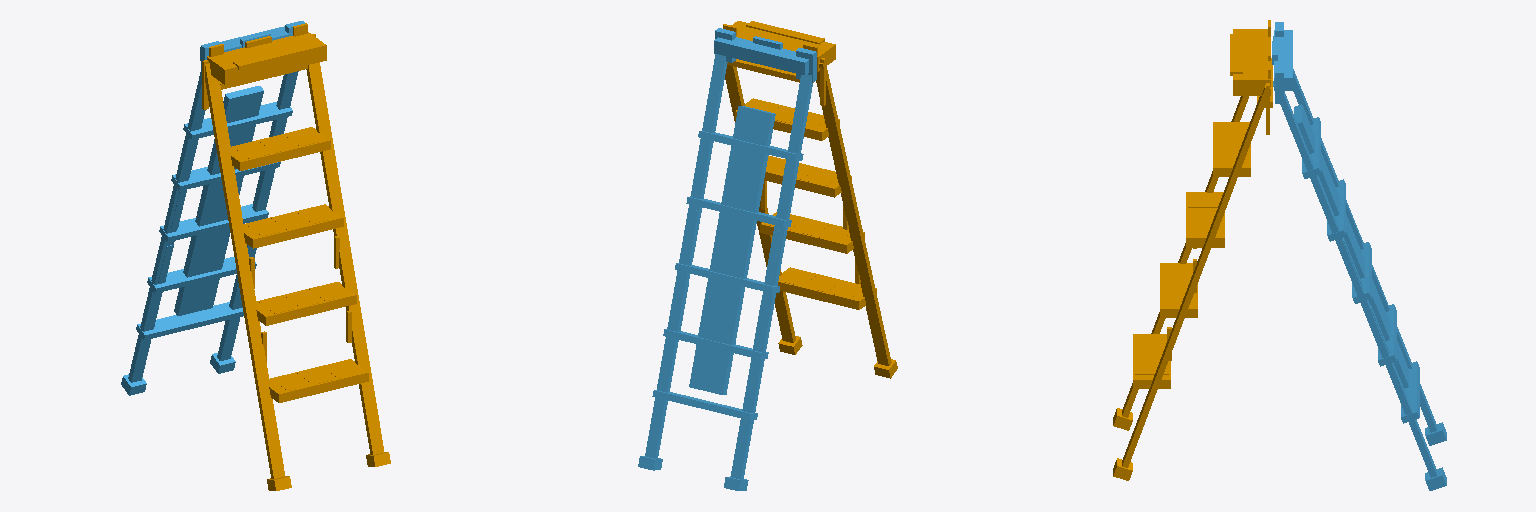
The robot description file, URDF, robot "a_frame_step_ladder":
<robot name="a_frame_step_ladder">
  <link name="front_frame">
    <inertial>
      <origin xyz="0 -0.235 -0.76" rpy="0 0 0" />
      <mass value="6.5" />
      <inertia ixx="1.36868" ixy="0" ixz="0" iyy="1.30108" iyz="0" izz="0.296833" />
      </inertial>
    <visual>
      <origin xyz="-0.195 -0.249792 -0.738071" rpy="-0.33 0 0" />
      <geometry>
        <box size="0.045 0.02 1.48" />
        </geometry>
      </visual>
    <visual>
      <origin xyz="0.195 -0.249792 -0.738071" rpy="-0.33 0 0" />
      <geometry>
        <box size="0.045 0.02 1.48" />
        </geometry>
      </visual>
    <visual>
      <origin xyz="0 -0.062 -0.046" rpy="0 0 0" />
      <geometry>
        <box size="0.4 0.124 0.058" />
        </geometry>
      </visual>
    <visual>
      <origin xyz="0 -0.114 -0.018" rpy="0 0 0" />
      <geometry>
        <box size="0.3 0.042 0.014" />
        </geometry>
      </visual>
    <visual>
      <origin xyz="0 -0.02 -0.12" rpy="0 0 0" />
      <geometry>
        <box size="0.34 0.052 0.022" />
        </geometry>
      </visual>
    <visual>
      <origin xyz="0 -0.006 -0.012" rpy="0 0 0" />
      <geometry>
        <box size="0.1 0.012 0.03" />
        </geometry>
      </visual>
    <visual>
      <origin xyz="-0.165 -0.006 -0.024" rpy="0 0 0" />
      <geometry>
        <box size="0.054 0.012 0.082" />
        </geometry>
      </visual>
    <visual>
      <origin xyz="0.165 -0.006 -0.024" rpy="0 0 0" />
      <geometry>
        <box size="0.054 0.012 0.082" />
        </geometry>
      </visual>
    <visual>
      <origin xyz="-0.212 -0.012 -0.116" rpy="0 0 0" />
      <geometry>
        <box size="0.018 0.012 0.18" />
        </geometry>
      </visual>
    <visual>
      <origin xyz="0.212 -0.012 -0.116" rpy="0 0 0" />
      <geometry>
        <box size="0.018 0.012 0.18" />
        </geometry>
      </visual>
    <visual>
      <origin xyz="0 -0.128175 -0.359654" rpy="0 0 0" />
      <geometry>
        <box size="0.356 0.126 0.034" />
        </geometry>
      </visual>
    <visual>
      <origin xyz="-0.1 -0.128175 -0.344654" rpy="0 0 0" />
      <geometry>
        <box size="0.078 0.112 0.005" />
        </geometry>
      </visual>
    <visual>
      <origin xyz="0 -0.128175 -0.344654" rpy="0 0 0" />
      <geometry>
        <box size="0.078 0.112 0.005" />
        </geometry>
      </visual>
    <visual>
      <origin xyz="0.1 -0.128175 -0.344654" rpy="0 0 0" />
      <geometry>
        <box size="0.078 0.112 0.005" />
        </geometry>
      </visual>
    <visual>
      <origin xyz="0 -0.215666 -0.615086" rpy="0 0 0" />
      <geometry>
        <box size="0.356 0.126 0.034" />
        </geometry>
      </visual>
    <visual>
      <origin xyz="-0.1 -0.215666 -0.600086" rpy="0 0 0" />
      <geometry>
        <box size="0.078 0.112 0.005" />
        </geometry>
      </visual>
    <visual>
      <origin xyz="0 -0.215666 -0.600086" rpy="0 0 0" />
      <geometry>
        <box size="0.078 0.112 0.005" />
        </geometry>
      </visual>
    <visual>
      <origin xyz="0.1 -0.215666 -0.600086" rpy="0 0 0" />
      <geometry>
        <box size="0.078 0.112 0.005" />
        </geometry>
      </visual>
    <visual>
      <origin xyz="0 -0.303158 -0.870517" rpy="0 0 0" />
      <geometry>
        <box size="0.356 0.126 0.034" />
        </geometry>
      </visual>
    <visual>
      <origin xyz="-0.1 -0.303158 -0.855517" rpy="0 0 0" />
      <geometry>
        <box size="0.078 0.112 0.005" />
        </geometry>
      </visual>
    <visual>
      <origin xyz="0 -0.303158 -0.855517" rpy="0 0 0" />
      <geometry>
        <box size="0.078 0.112 0.005" />
        </geometry>
      </visual>
    <visual>
      <origin xyz="0.1 -0.303158 -0.855517" rpy="0 0 0" />
      <geometry>
        <box size="0.078 0.112 0.005" />
        </geometry>
      </visual>
    <visual>
      <origin xyz="0 -0.390649 -1.12595" rpy="0 0 0" />
      <geometry>
        <box size="0.356 0.126 0.034" />
        </geometry>
      </visual>
    <visual>
      <origin xyz="-0.1 -0.390649 -1.11095" rpy="0 0 0" />
      <geometry>
        <box size="0.078 0.112 0.005" />
        </geometry>
      </visual>
    <visual>
      <origin xyz="0 -0.390649 -1.11095" rpy="0 0 0" />
      <geometry>
        <box size="0.078 0.112 0.005" />
        </geometry>
      </visual>
    <visual>
      <origin xyz="0.1 -0.390649 -1.11095" rpy="0 0 0" />
      <geometry>
        <box size="0.078 0.112 0.005" />
        </geometry>
      </visual>
    <visual>
      <origin xyz="-0.168 -0.249792 -0.738071" rpy="0 0 0" />
      <geometry>
        <box size="0.016 0.014 0.115" />
        </geometry>
      </visual>
    <visual>
      <origin xyz="0.168 -0.249792 -0.738071" rpy="0 0 0" />
      <geometry>
        <box size="0.016 0.014 0.115" />
        </geometry>
      </visual>
    <visual>
      <origin xyz="-0.168 -0.334043 -0.984042" rpy="0 0 0" />
      <geometry>
        <box size="0.016 0.014 0.115" />
        </geometry>
      </visual>
    <visual>
      <origin xyz="0.168 -0.334043 -0.984042" rpy="0 0 0" />
      <geometry>
        <box size="0.016 0.014 0.115" />
        </geometry>
      </visual>
    <visual>
      <origin xyz="-0.195 -0.485695 -1.42679" rpy="-0.33 0 0" />
      <geometry>
        <box size="0.062 0.055 0.04" />
        </geometry>
      </visual>
    <visual>
      <origin xyz="0.195 -0.485695 -1.42679" rpy="-0.33 0 0" />
      <geometry>
        <box size="0.062 0.055 0.04" />
        </geometry>
      </visual>
    <collision name="front_frame__visual_1">
      <origin xyz="-0.195 -0.249792 -0.738071" rpy="-0.33 0 0" />
      <geometry>
        <box size="0.045 0.02 1.48" />
        </geometry>
      </collision>
    <collision name="front_frame__visual_2">
      <origin xyz="0.195 -0.249792 -0.738071" rpy="-0.33 0 0" />
      <geometry>
        <box size="0.045 0.02 1.48" />
        </geometry>
      </collision>
    <collision name="front_frame__visual_3">
      <origin xyz="0 -0.062 -0.046" rpy="0 0 0" />
      <geometry>
        <box size="0.4 0.124 0.058" />
        </geometry>
      </collision>
    <collision name="front_frame__visual_4">
      <origin xyz="0 -0.114 -0.018" rpy="0 0 0" />
      <geometry>
        <box size="0.3 0.042 0.014" />
        </geometry>
      </collision>
    <collision name="front_frame__visual_5">
      <origin xyz="0 -0.02 -0.12" rpy="0 0 0" />
      <geometry>
        <box size="0.34 0.052 0.022" />
        </geometry>
      </collision>
    <collision name="front_frame__visual_6">
      <origin xyz="0 -0.006 -0.012" rpy="0 0 0" />
      <geometry>
        <box size="0.1 0.012 0.03" />
        </geometry>
      </collision>
    <collision name="front_frame__visual_7">
      <origin xyz="-0.165 -0.006 -0.024" rpy="0 0 0" />
      <geometry>
        <box size="0.054 0.012 0.082" />
        </geometry>
      </collision>
    <collision name="front_frame__visual_8">
      <origin xyz="0.165 -0.006 -0.024" rpy="0 0 0" />
      <geometry>
        <box size="0.054 0.012 0.082" />
        </geometry>
      </collision>
    <collision name="front_frame__visual_9">
      <origin xyz="-0.212 -0.012 -0.116" rpy="0 0 0" />
      <geometry>
        <box size="0.018 0.012 0.18" />
        </geometry>
      </collision>
    <collision name="front_frame__visual_10">
      <origin xyz="0.212 -0.012 -0.116" rpy="0 0 0" />
      <geometry>
        <box size="0.018 0.012 0.18" />
        </geometry>
      </collision>
    <collision name="front_frame__visual_11">
      <origin xyz="0 -0.128175 -0.359654" rpy="0 0 0" />
      <geometry>
        <box size="0.356 0.126 0.034" />
        </geometry>
      </collision>
    <collision name="front_frame__visual_12">
      <origin xyz="-0.1 -0.128175 -0.344654" rpy="0 0 0" />
      <geometry>
        <box size="0.078 0.112 0.005" />
        </geometry>
      </collision>
    <collision name="front_frame__visual_13">
      <origin xyz="0 -0.128175 -0.344654" rpy="0 0 0" />
      <geometry>
        <box size="0.078 0.112 0.005" />
        </geometry>
      </collision>
    <collision name="front_frame__visual_14">
      <origin xyz="0.1 -0.128175 -0.344654" rpy="0 0 0" />
      <geometry>
        <box size="0.078 0.112 0.005" />
        </geometry>
      </collision>
    <collision name="front_frame__visual_15">
      <origin xyz="0 -0.215666 -0.615086" rpy="0 0 0" />
      <geometry>
        <box size="0.356 0.126 0.034" />
        </geometry>
      </collision>
    <collision name="front_frame__visual_16">
      <origin xyz="-0.1 -0.215666 -0.600086" rpy="0 0 0" />
      <geometry>
        <box size="0.078 0.112 0.005" />
        </geometry>
      </collision>
    <collision name="front_frame__visual_17">
      <origin xyz="0 -0.215666 -0.600086" rpy="0 0 0" />
      <geometry>
        <box size="0.078 0.112 0.005" />
        </geometry>
      </collision>
    <collision name="front_frame__visual_18">
      <origin xyz="0.1 -0.215666 -0.600086" rpy="0 0 0" />
      <geometry>
        <box size="0.078 0.112 0.005" />
        </geometry>
      </collision>
    <collision name="front_frame__visual_19">
      <origin xyz="0 -0.303158 -0.870517" rpy="0 0 0" />
      <geometry>
        <box size="0.356 0.126 0.034" />
        </geometry>
      </collision>
    <collision name="front_frame__visual_20">
      <origin xyz="-0.1 -0.303158 -0.855517" rpy="0 0 0" />
      <geometry>
        <box size="0.078 0.112 0.005" />
        </geometry>
      </collision>
    <collision name="front_frame__visual_21">
      <origin xyz="0 -0.303158 -0.855517" rpy="0 0 0" />
      <geometry>
        <box size="0.078 0.112 0.005" />
        </geometry>
      </collision>
    <collision name="front_frame__visual_22">
      <origin xyz="0.1 -0.303158 -0.855517" rpy="0 0 0" />
      <geometry>
        <box size="0.078 0.112 0.005" />
        </geometry>
      </collision>
    <collision name="front_frame__visual_23">
      <origin xyz="0 -0.390649 -1.12595" rpy="0 0 0" />
      <geometry>
        <box size="0.356 0.126 0.034" />
        </geometry>
      </collision>
    <collision name="front_frame__visual_24">
      <origin xyz="-0.1 -0.390649 -1.11095" rpy="0 0 0" />
      <geometry>
        <box size="0.078 0.112 0.005" />
        </geometry>
      </collision>
    <collision name="front_frame__visual_25">
      <origin xyz="0 -0.390649 -1.11095" rpy="0 0 0" />
      <geometry>
        <box size="0.078 0.112 0.005" />
        </geometry>
      </collision>
    <collision name="front_frame__visual_26">
      <origin xyz="0.1 -0.390649 -1.11095" rpy="0 0 0" />
      <geometry>
        <box size="0.078 0.112 0.005" />
        </geometry>
      </collision>
    <collision name="front_frame__visual_27">
      <origin xyz="-0.168 -0.249792 -0.738071" rpy="0 0 0" />
      <geometry>
        <box size="0.016 0.014 0.115" />
        </geometry>
      </collision>
    <collision name="front_frame__visual_28">
      <origin xyz="0.168 -0.249792 -0.738071" rpy="0 0 0" />
      <geometry>
        <box size="0.016 0.014 0.115" />
        </geometry>
      </collision>
    <collision name="front_frame__visual_29">
      <origin xyz="-0.168 -0.334043 -0.984042" rpy="0 0 0" />
      <geometry>
        <box size="0.016 0.014 0.115" />
        </geometry>
      </collision>
    <collision name="front_frame__visual_30">
      <origin xyz="0.168 -0.334043 -0.984042" rpy="0 0 0" />
      <geometry>
        <box size="0.016 0.014 0.115" />
        </geometry>
      </collision>
    <collision name="front_frame__visual_31">
      <origin xyz="-0.195 -0.485695 -1.42679" rpy="-0.33 0 0" />
      <geometry>
        <box size="0.062 0.055 0.04" />
        </geometry>
      </collision>
    <collision name="front_frame__visual_32">
      <origin xyz="0.195 -0.485695 -1.42679" rpy="-0.33 0 0" />
      <geometry>
        <box size="0.062 0.055 0.04" />
        </geometry>
      </collision>
    </link>
  <link name="rear_frame">
    <inertial>
      <origin xyz="0 0.3 -0.8" rpy="0 0 0" />
      <mass value="3.9" />
      <inertia ixx="0.8957" ixy="0" ixz="0" iyy="0.8281" iyz="0" izz="0.18226" />
      </inertial>
    <visual>
      <origin xyz="0 0.012 -0.01" rpy="0 0 0" />
      <geometry>
        <box size="0.112 0.018 0.034" />
        </geometry>
      </visual>
    <visual>
      <origin xyz="0 0.04 -0.038" rpy="0 0 0" />
      <geometry>
        <box size="0.372 0.064 0.05" />
        </geometry>
      </visual>
    <visual>
      <origin xyz="-0.165 0.026 -0.046" rpy="0 0 0" />
      <geometry>
        <box size="0.07 0.03 0.11" />
        </geometry>
      </visual>
    <visual>
      <origin xyz="0.165 0.026 -0.046" rpy="0 0 0" />
      <geometry>
        <box size="0.07 0.03 0.11" />
        </geometry>
      </visual>
    <visual>
      <origin xyz="-0.175 0.280031 -0.759317" rpy="0.35 0 0" />
      <geometry>
        <box size="0.042 0.022 1.54" />
        </geometry>
      </visual>
    <visual>
      <origin xyz="0.175 0.280031 -0.759317" rpy="0.35 0 0" />
      <geometry>
        <box size="0.042 0.022 1.54" />
        </geometry>
      </visual>
    <visual>
      <origin xyz="0 0.262886 -0.712348" rpy="0.35 0 0" />
      <geometry>
        <box size="0.138 0.028 1.02" />
        </geometry>
      </visual>
    <visual>
      <origin xyz="0 0.132585 -0.355387" rpy="0.35 0 0" />
      <geometry>
        <box size="0.396 0.058 0.024" />
        </geometry>
      </visual>
    <visual>
      <origin xyz="0 0.214881 -0.580836" rpy="0.35 0 0" />
      <geometry>
        <box size="0.396 0.058 0.024" />
        </geometry>
      </visual>
    <visual>
      <origin xyz="0 0.297176 -0.806286" rpy="0.35 0 0" />
      <geometry>
        <box size="0.396 0.058 0.024" />
        </geometry>
      </visual>
    <visual>
      <origin xyz="0 0.379472 -1.03174" rpy="0.35 0 0" />
      <geometry>
        <box size="0.396 0.058 0.024" />
        </geometry>
      </visual>
    <visual>
      <origin xyz="0 0.454909 -1.2384" rpy="0.35 0 0" />
      <geometry>
        <box size="0.396 0.058 0.024" />
        </geometry>
      </visual>
    <visual>
      <origin xyz="-0.168 0.256028 -0.693561" rpy="0.35 0 0" />
      <geometry>
        <box size="0.028 0.026 0.18" />
        </geometry>
      </visual>
    <visual>
      <origin xyz="0.168 0.256028 -0.693561" rpy="0.35 0 0" />
      <geometry>
        <box size="0.028 0.026 0.18" />
        </geometry>
      </visual>
    <visual>
      <origin xyz="-0.168 0.345182 -0.937798" rpy="0.35 0 0" />
      <geometry>
        <box size="0.028 0.026 0.18" />
        </geometry>
      </visual>
    <visual>
      <origin xyz="0.168 0.345182 -0.937798" rpy="0.35 0 0" />
      <geometry>
        <box size="0.028 0.026 0.18" />
        </geometry>
      </visual>
    <visual>
      <origin xyz="-0.175 0.539948 -1.47136" rpy="0.35 0 0" />
      <geometry>
        <box size="0.062 0.06 0.04" />
        </geometry>
      </visual>
    <visual>
      <origin xyz="0.175 0.539948 -1.47136" rpy="0.35 0 0" />
      <geometry>
        <box size="0.062 0.06 0.04" />
        </geometry>
      </visual>
    <collision name="rear_frame__visual_1">
      <origin xyz="0 0.012 -0.01" rpy="0 0 0" />
      <geometry>
        <box size="0.112 0.018 0.034" />
        </geometry>
      </collision>
    <collision name="rear_frame__visual_2">
      <origin xyz="0 0.04 -0.038" rpy="0 0 0" />
      <geometry>
        <box size="0.372 0.064 0.05" />
        </geometry>
      </collision>
    <collision name="rear_frame__visual_3">
      <origin xyz="-0.165 0.026 -0.046" rpy="0 0 0" />
      <geometry>
        <box size="0.07 0.03 0.11" />
        </geometry>
      </collision>
    <collision name="rear_frame__visual_4">
      <origin xyz="0.165 0.026 -0.046" rpy="0 0 0" />
      <geometry>
        <box size="0.07 0.03 0.11" />
        </geometry>
      </collision>
    <collision name="rear_frame__visual_5">
      <origin xyz="-0.175 0.280031 -0.759317" rpy="0.35 0 0" />
      <geometry>
        <box size="0.042 0.022 1.54" />
        </geometry>
      </collision>
    <collision name="rear_frame__visual_6">
      <origin xyz="0.175 0.280031 -0.759317" rpy="0.35 0 0" />
      <geometry>
        <box size="0.042 0.022 1.54" />
        </geometry>
      </collision>
    <collision name="rear_frame__visual_7">
      <origin xyz="0 0.262886 -0.712348" rpy="0.35 0 0" />
      <geometry>
        <box size="0.138 0.028 1.02" />
        </geometry>
      </collision>
    <collision name="rear_frame__visual_8">
      <origin xyz="0 0.132585 -0.355387" rpy="0.35 0 0" />
      <geometry>
        <box size="0.396 0.058 0.024" />
        </geometry>
      </collision>
    <collision name="rear_frame__visual_9">
      <origin xyz="0 0.214881 -0.580836" rpy="0.35 0 0" />
      <geometry>
        <box size="0.396 0.058 0.024" />
        </geometry>
      </collision>
    <collision name="rear_frame__visual_10">
      <origin xyz="0 0.297176 -0.806286" rpy="0.35 0 0" />
      <geometry>
        <box size="0.396 0.058 0.024" />
        </geometry>
      </collision>
    <collision name="rear_frame__visual_11">
      <origin xyz="0 0.379472 -1.03174" rpy="0.35 0 0" />
      <geometry>
        <box size="0.396 0.058 0.024" />
        </geometry>
      </collision>
    <collision name="rear_frame__visual_12">
      <origin xyz="0 0.454909 -1.2384" rpy="0.35 0 0" />
      <geometry>
        <box size="0.396 0.058 0.024" />
        </geometry>
      </collision>
    <collision name="rear_frame__visual_13">
      <origin xyz="-0.168 0.256028 -0.693561" rpy="0.35 0 0" />
      <geometry>
        <box size="0.028 0.026 0.18" />
        </geometry>
      </collision>
    <collision name="rear_frame__visual_14">
      <origin xyz="0.168 0.256028 -0.693561" rpy="0.35 0 0" />
      <geometry>
        <box size="0.028 0.026 0.18" />
        </geometry>
      </collision>
    <collision name="rear_frame__visual_15">
      <origin xyz="-0.168 0.345182 -0.937798" rpy="0.35 0 0" />
      <geometry>
        <box size="0.028 0.026 0.18" />
        </geometry>
      </collision>
    <collision name="rear_frame__visual_16">
      <origin xyz="0.168 0.345182 -0.937798" rpy="0.35 0 0" />
      <geometry>
        <box size="0.028 0.026 0.18" />
        </geometry>
      </collision>
    <collision name="rear_frame__visual_17">
      <origin xyz="-0.175 0.539948 -1.47136" rpy="0.35 0 0" />
      <geometry>
        <box size="0.062 0.06 0.04" />
        </geometry>
      </collision>
    <collision name="rear_frame__visual_18">
      <origin xyz="0.175 0.539948 -1.47136" rpy="0.35 0 0" />
      <geometry>
        <box size="0.062 0.06 0.04" />
        </geometry>
      </collision>
    </link>
  <joint name="front_to_rear_hinge" type="revolute">
    <parent link="front_frame" />
    <child link="rear_frame" />
    <axis xyz="1 0 0" />
    <limit effort="60" velocity="1.5" lower="-0.1" upper="0.16" />
    </joint>
  </robot>

--- Render facts (derived) ---
3 views of the same robot in one strip: view 1: azimuth 30°, elevation 25°; view 2: azimuth 150°, elevation 25°; view 3: azimuth 270°, elevation 25° (orthographic).
Model a_frame_step_ladder with 2 links and 1 joints (1 revolute), rooted at front_frame, posed all joints at 0.
Links seen in each view (by area): view 1: front_frame, rear_frame; view 2: rear_frame, front_frame; view 3: front_frame, rear_frame.
Link boxes in pixels (bbox=[...]): front_frame: bbox=[202, 23, 390, 490]; rear_frame: bbox=[121, 21, 304, 395]; rear_frame: bbox=[638, 28, 816, 490]; front_frame: bbox=[723, 21, 897, 378]; front_frame: bbox=[1113, 20, 1272, 480]; rear_frame: bbox=[1272, 22, 1446, 490].
Bounding box of the posed robot: 0.452 × 1.09 × 1.52 m (x, y, z).
Geometry: primitives only (box / cylinder / sphere), no mesh files.
